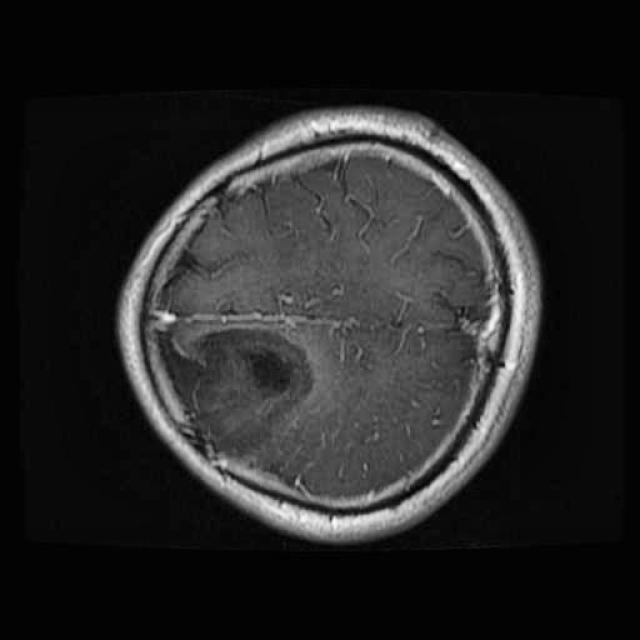Non-Tumor: (171, 314, 323, 472)
